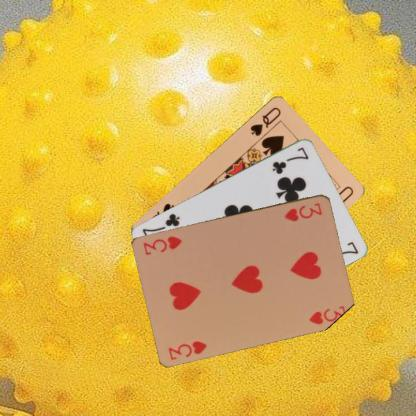3h: (166, 338, 209, 361), (282, 200, 324, 222)
7c: (270, 144, 310, 176)
Qs: (247, 104, 282, 137)
